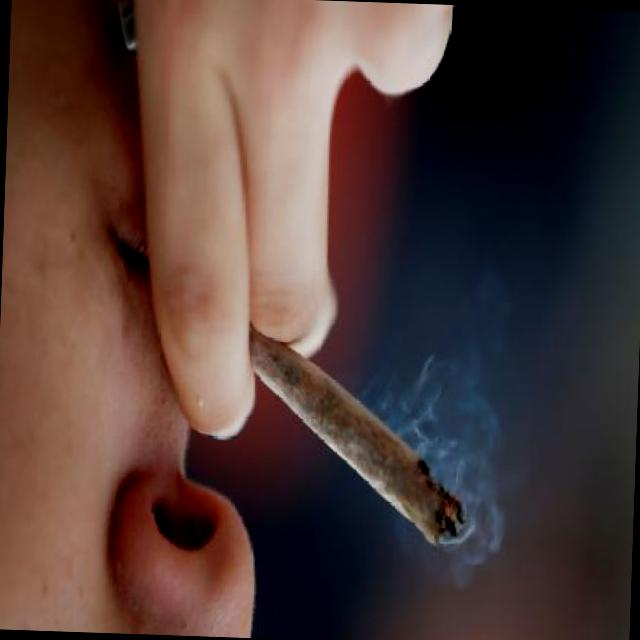cigarette: (241, 332, 473, 556)
